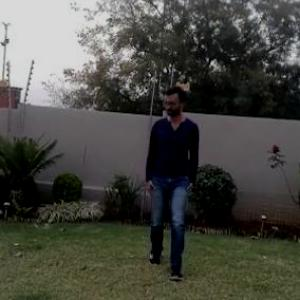follow: (136, 83, 199, 282)
